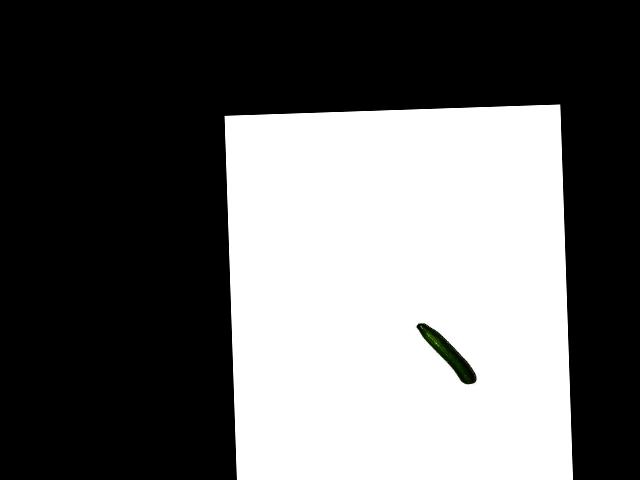cucumber: (416, 321, 476, 386)
